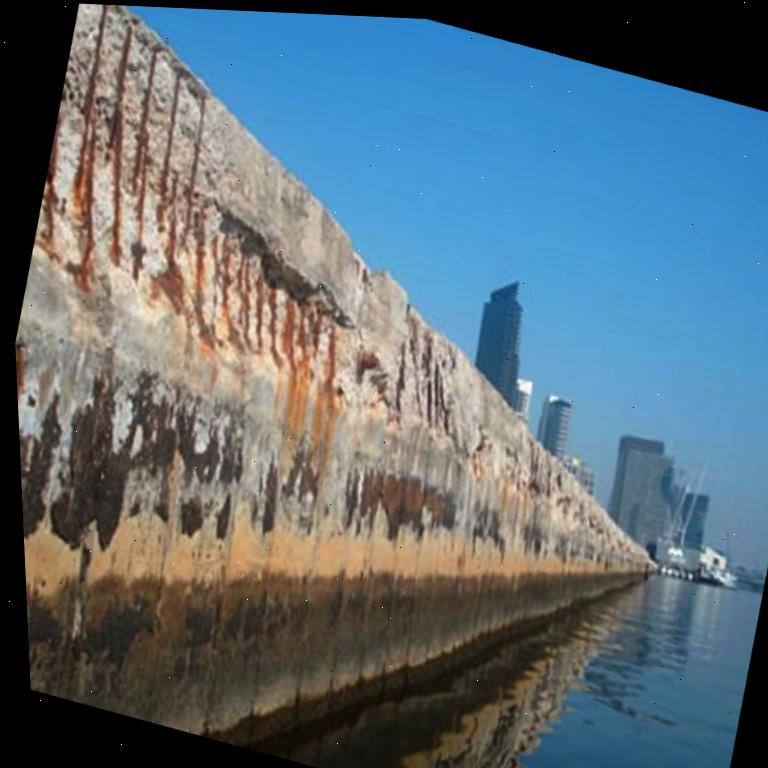spalling: (33, 3, 354, 369)
